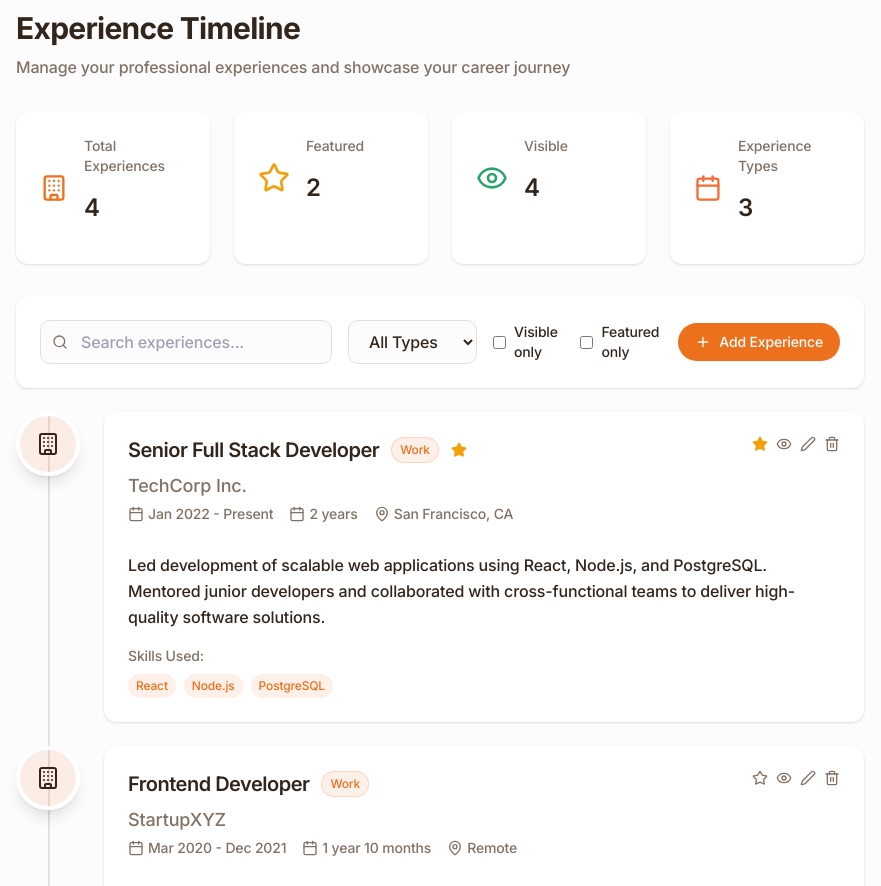
ExperienceTimeline › Search & Filtering › search input filters experiences by title
Check: the heading "Senior Full Stack Developer" is shown, box top-left (128, 436), bottom-right (379, 464)
Type "Frontend" into the field with placeholder "Search experiences..." at [186, 342], box top-left (40, 320), bottom-right (332, 364)
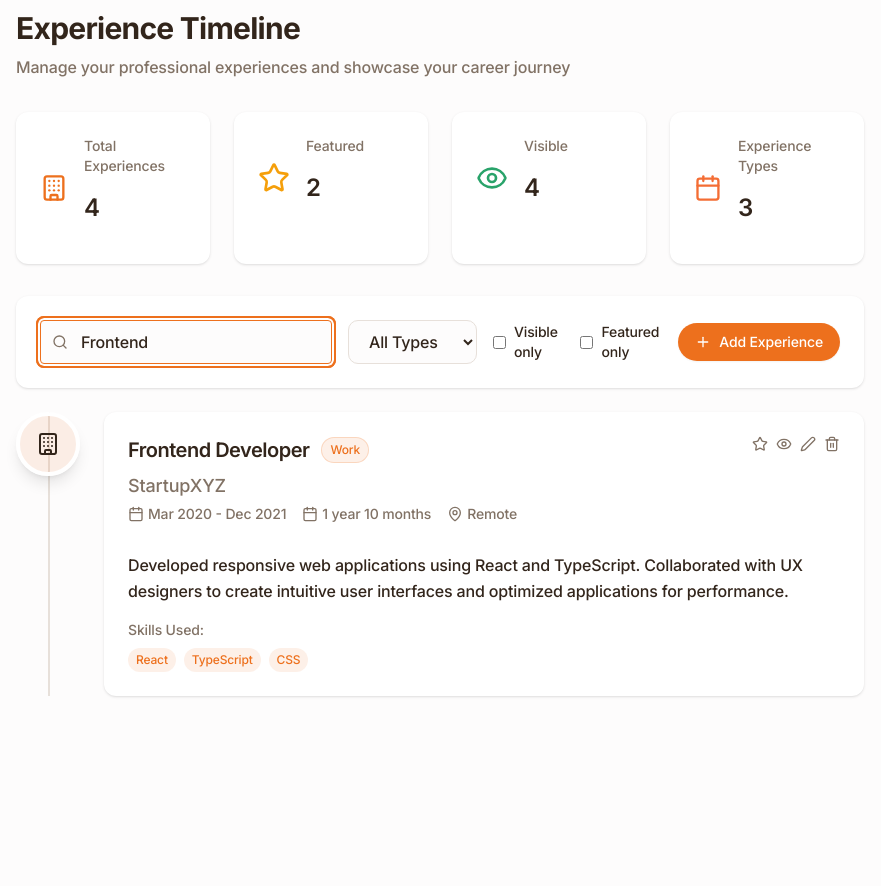
Check: the heading "Frontend Developer" is shown, box top-left (128, 436), bottom-right (309, 464)
Check: the heading "Senior Full Stack Developer" is gone
